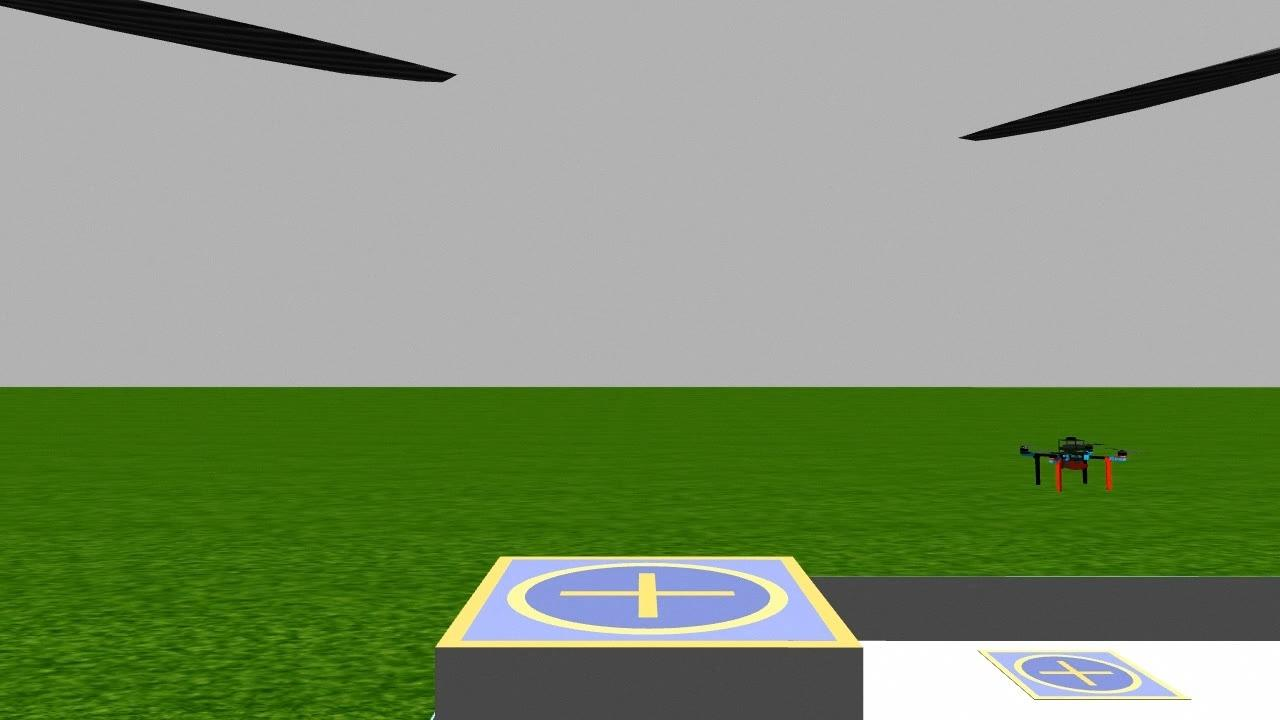UAV: (989, 427, 1158, 502)
